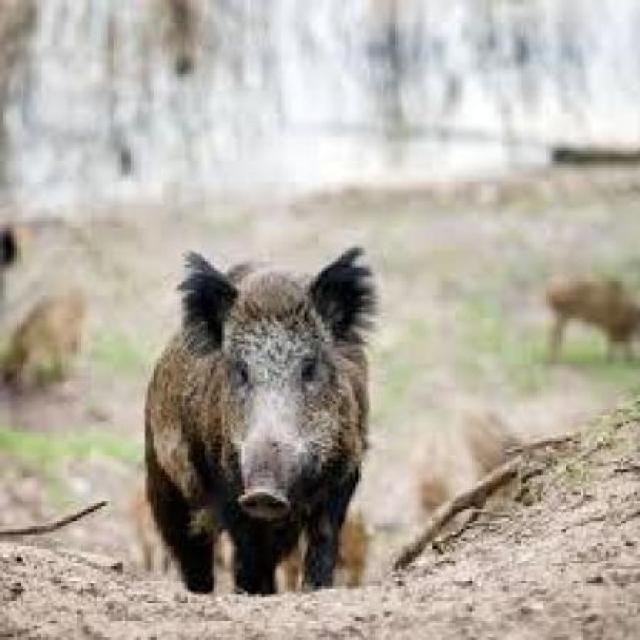wildboar: (135, 242, 390, 609)
